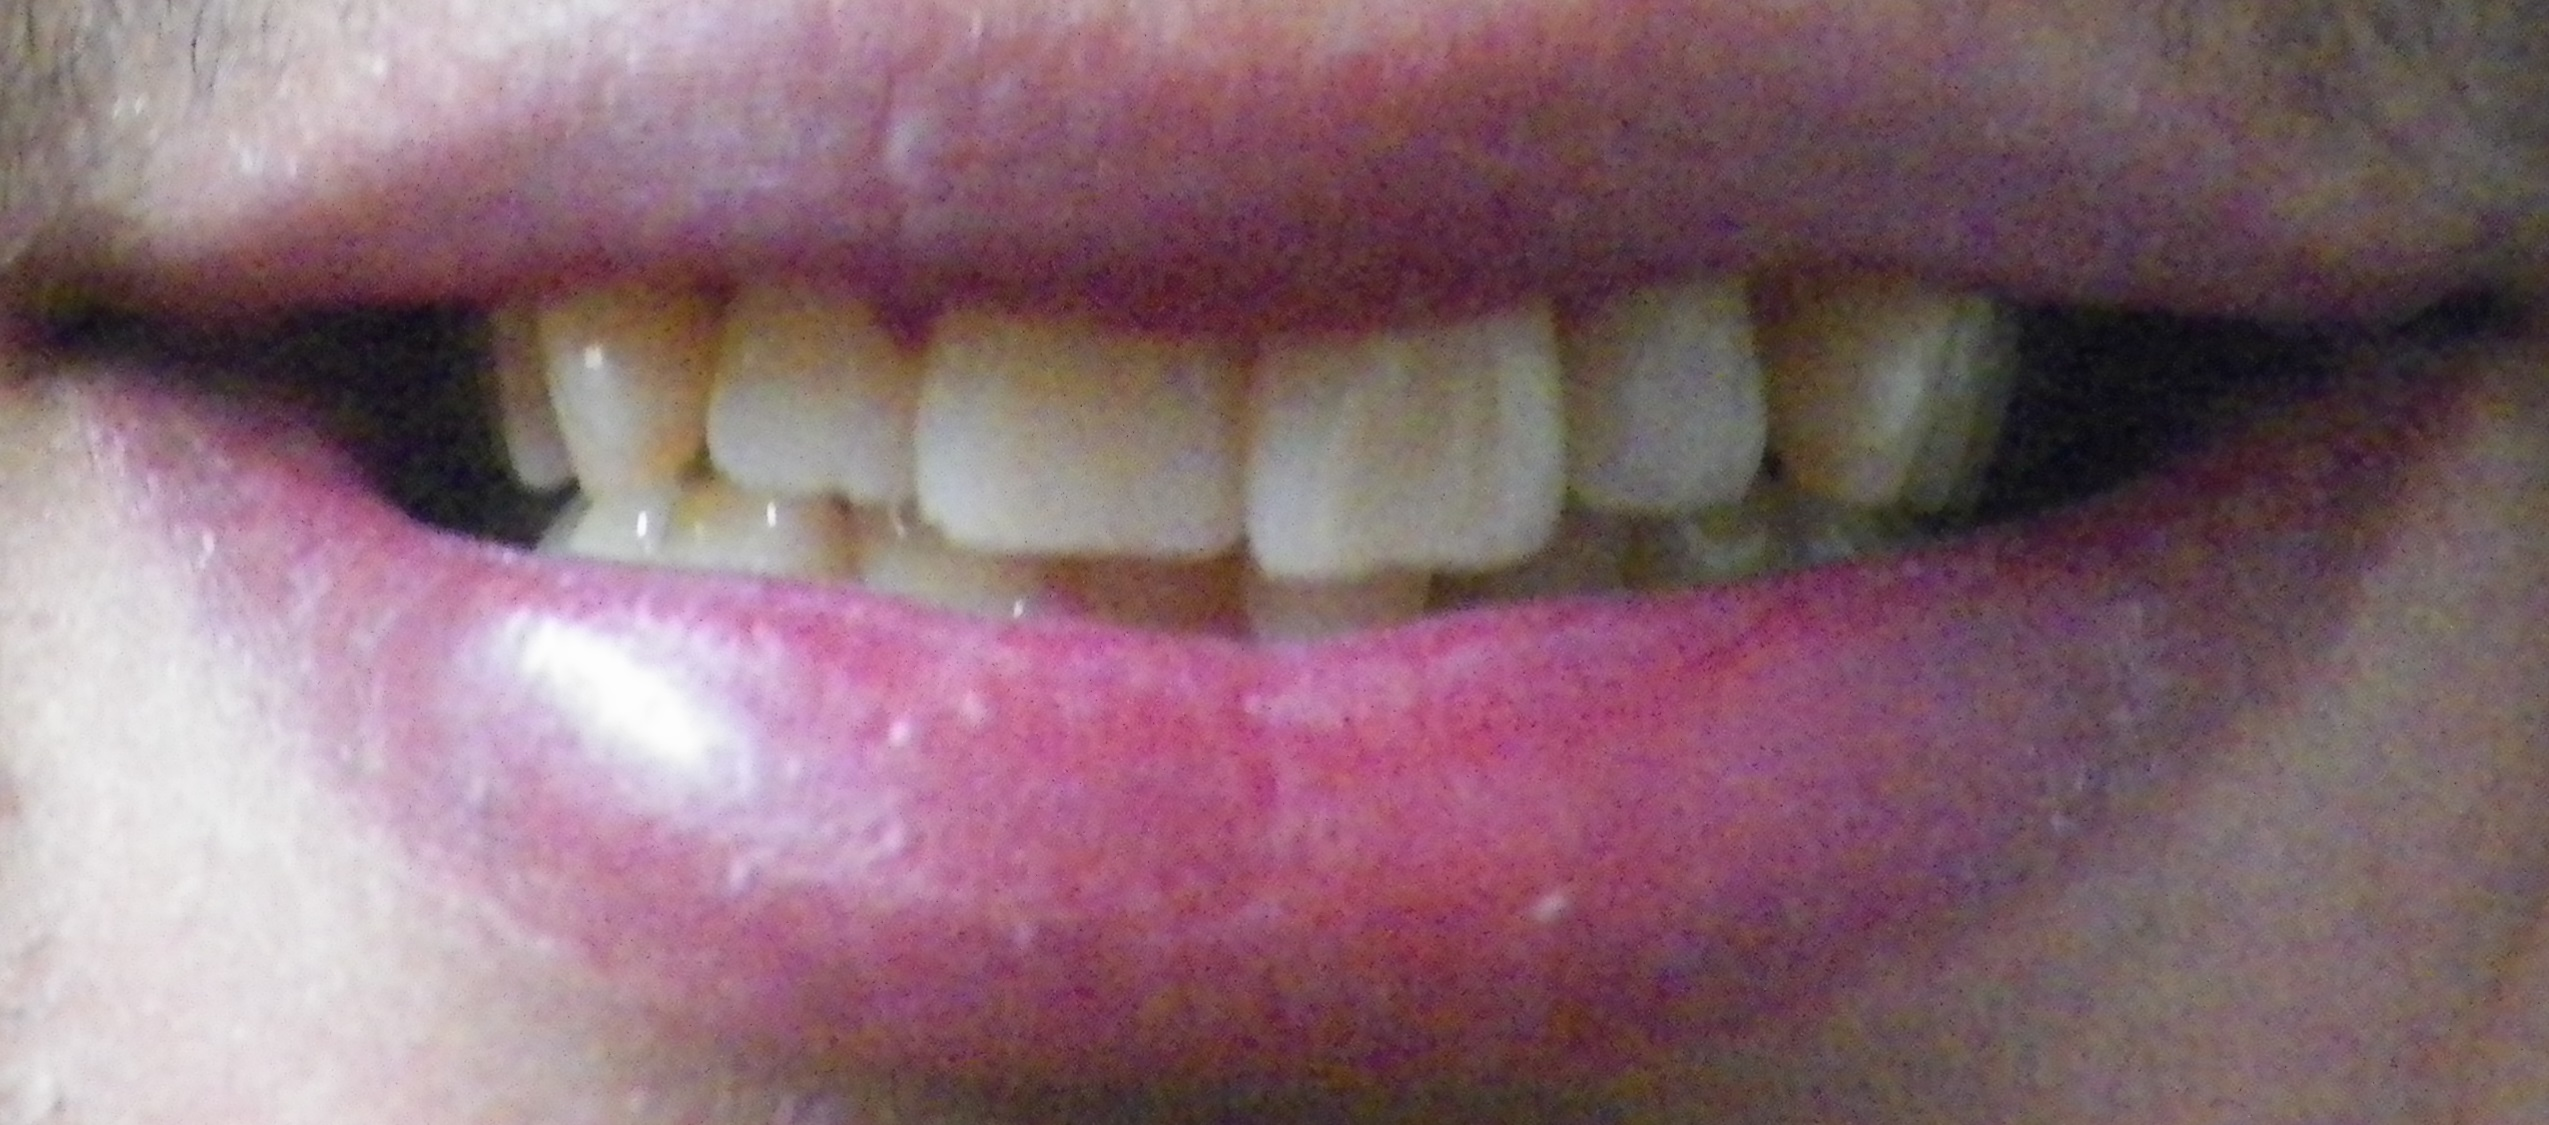boca: (488, 286, 2011, 652)
